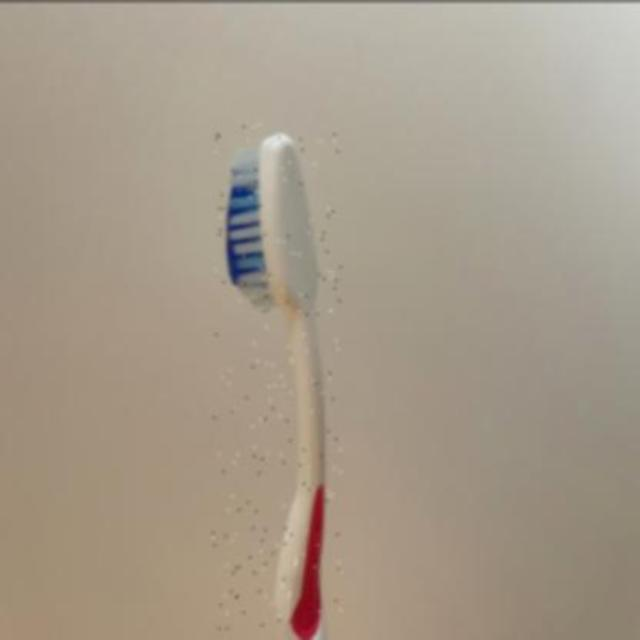toothbrush: (212, 122, 342, 640)
